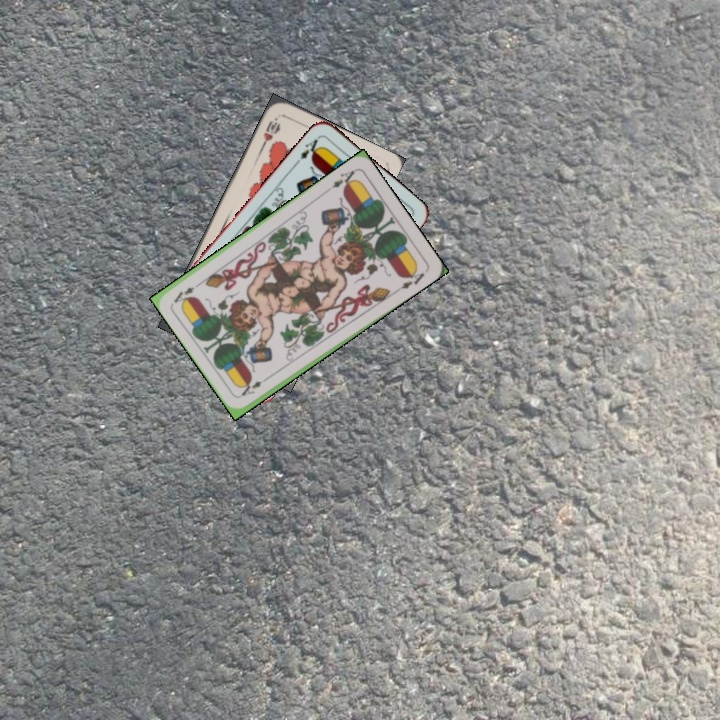EA: (237, 372, 273, 399), (296, 132, 324, 163), (328, 166, 358, 192)
H10: (258, 112, 283, 150)
